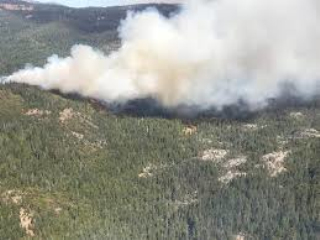smoke: (2, 47, 148, 107)
